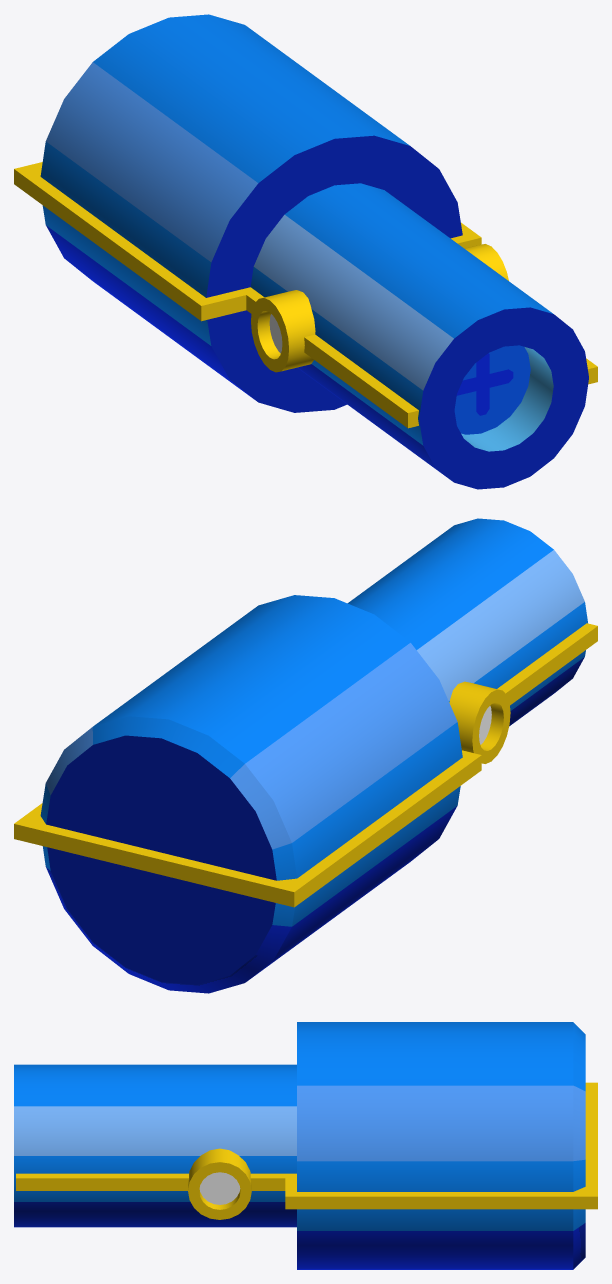
Rendered from Building_038_c.fbx.
3 views of the same model, one above another, from view 1: azimuth 30°, elevation 25°; view 2: azimuth 150°, elevation 25°; view 3: azimuth 270°, elevation 25° (orthographic). The views are drawn at different scales.
Parts seen in each view (by area): view 1: Building_038_c; view 2: Building_038_c; view 3: Building_038_c.
Boxes of the visible parts, x1=… form: Building_038_c: x1=14, y1=14, x2=597, y2=489; Building_038_c: x1=14, y1=518, x2=597, y2=993; Building_038_c: x1=14, y1=1022, x2=597, y2=1269.
Size of the model in its own units: 13.62 by 12.58 by 29.44.
